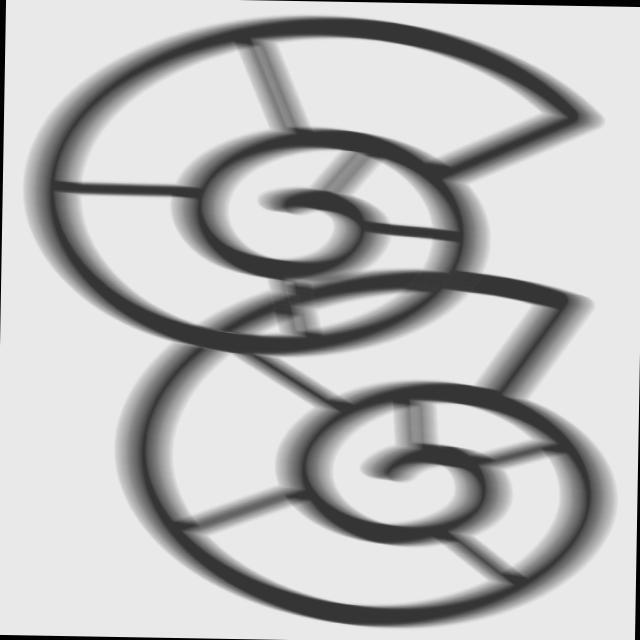fossil: (10, 2, 618, 370), (101, 268, 635, 640)
